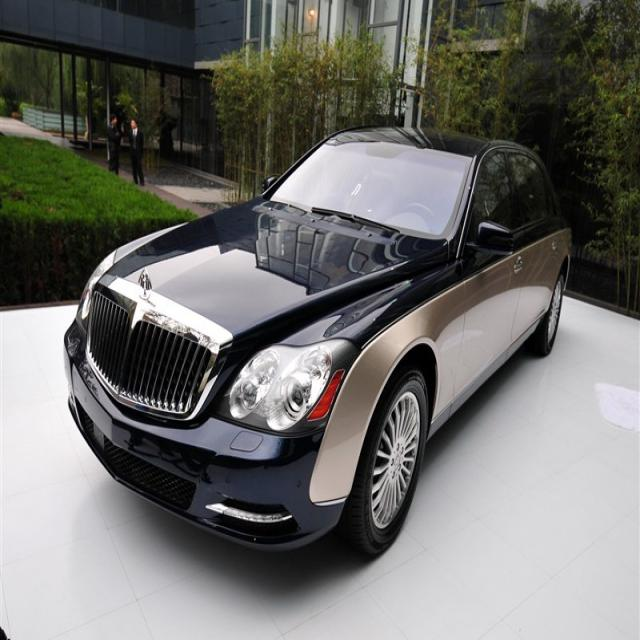front_bumper: (62, 321, 352, 553)
front_glass: (267, 138, 478, 244)
front_left_side_door: (450, 139, 517, 431)
front_left_side_light: (212, 335, 360, 439)
front_left_side_mirror: (471, 216, 515, 258)
wheel: (344, 360, 430, 560)
